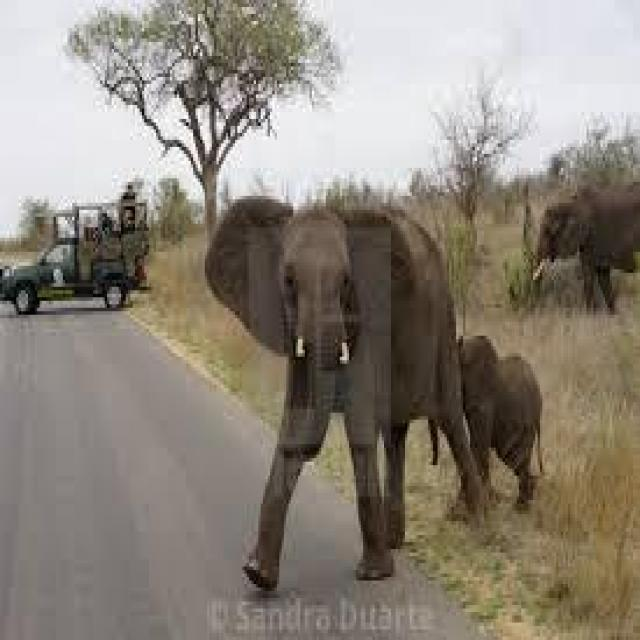Elephant: (203, 168, 484, 599), (433, 312, 553, 528), (519, 164, 640, 315)
